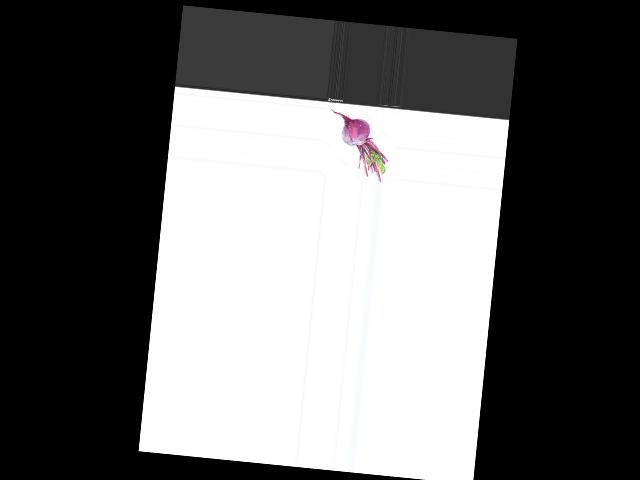beet: (322, 105, 393, 183)
